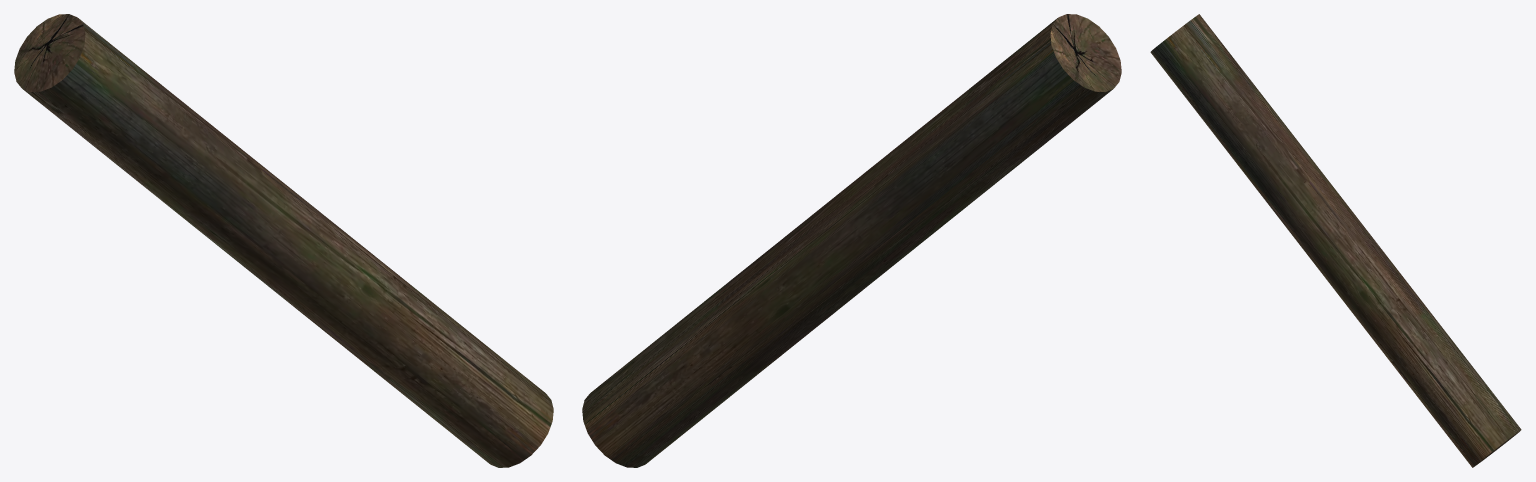
The picture shows the model from 3 angles, left to right: view 1: azimuth 30°, elevation 25°; view 2: azimuth 150°, elevation 25°; view 3: azimuth 330°, elevation 25°; orthographic projection. The views are drawn at different scales.
Visible parts, largest first — view 1: SM_BB_T1_Beam_Thin_Med_Diagonal_LOD0; view 2: SM_BB_T1_Beam_Thin_Med_Diagonal_LOD0; view 3: SM_BB_T1_Beam_Thin_Med_Diagonal_LOD0.
Part boxes in pixels (<box>): SM_BB_T1_Beam_Thin_Med_Diagonal_LOD0: <box>14,14,553,467</box>; SM_BB_T1_Beam_Thin_Med_Diagonal_LOD0: <box>582,14,1121,467</box>; SM_BB_T1_Beam_Thin_Med_Diagonal_LOD0: <box>1150,14,1521,467</box>.
Bounding box in the file's own units: 1.68 × 1.68 × 0.2508.
Materials: 1 (1 with a texture image).
